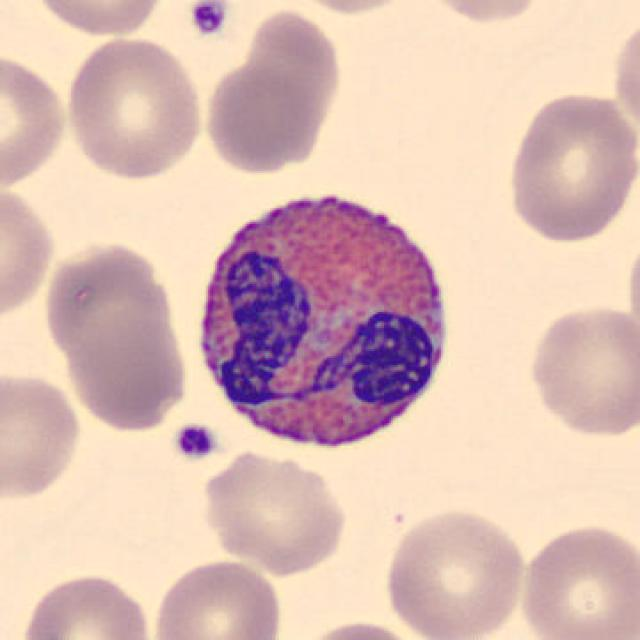Eosinophil: (183, 171, 464, 465)
Platelets: (170, 419, 218, 464), (185, 0, 233, 41)
RBC: (197, 3, 347, 180), (62, 32, 206, 183), (502, 86, 638, 245), (380, 502, 530, 640), (197, 446, 352, 577), (39, 236, 181, 374), (61, 288, 191, 433), (523, 300, 638, 440), (516, 520, 638, 640), (147, 553, 286, 640), (0, 366, 85, 502), (0, 48, 73, 192), (16, 569, 158, 640), (0, 180, 57, 324), (25, 0, 172, 39), (608, 10, 640, 150), (411, 0, 551, 28), (292, 617, 426, 640), (622, 222, 640, 362), (279, 0, 425, 16)
